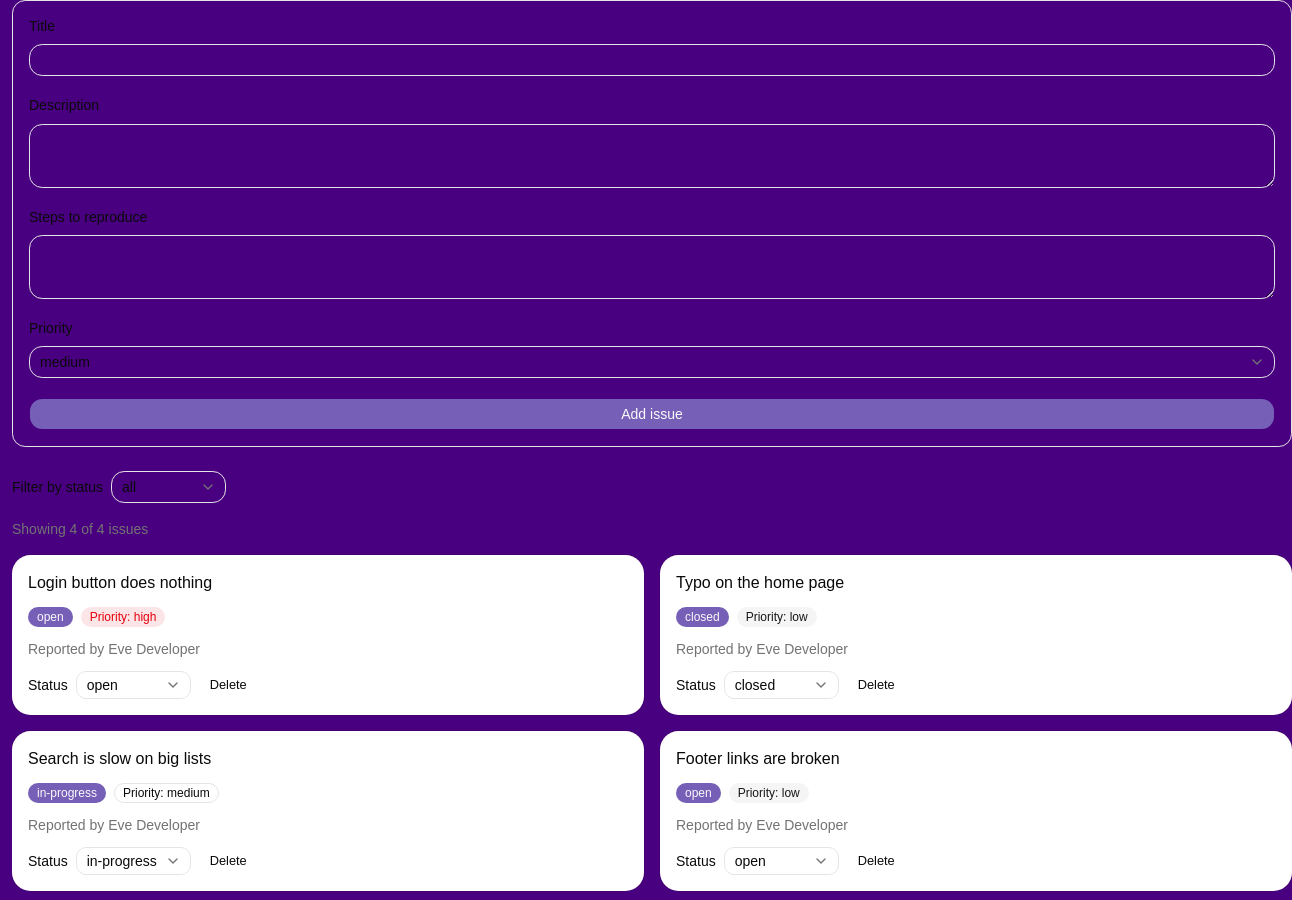
Test: IssueListPage (changing data) › adds an issue: sends it to the API and shows it without a page reload
This screenshot has width=1292, height=900.
Expected: the text "Showing 4 of 4 issues" is shown, x1=12 y1=521 x2=148 y2=537
Step 1. Type "Dark mode flickers" into the field labelled "Title" → (652, 60), box x1=29 y1=44 x2=1275 y2=76
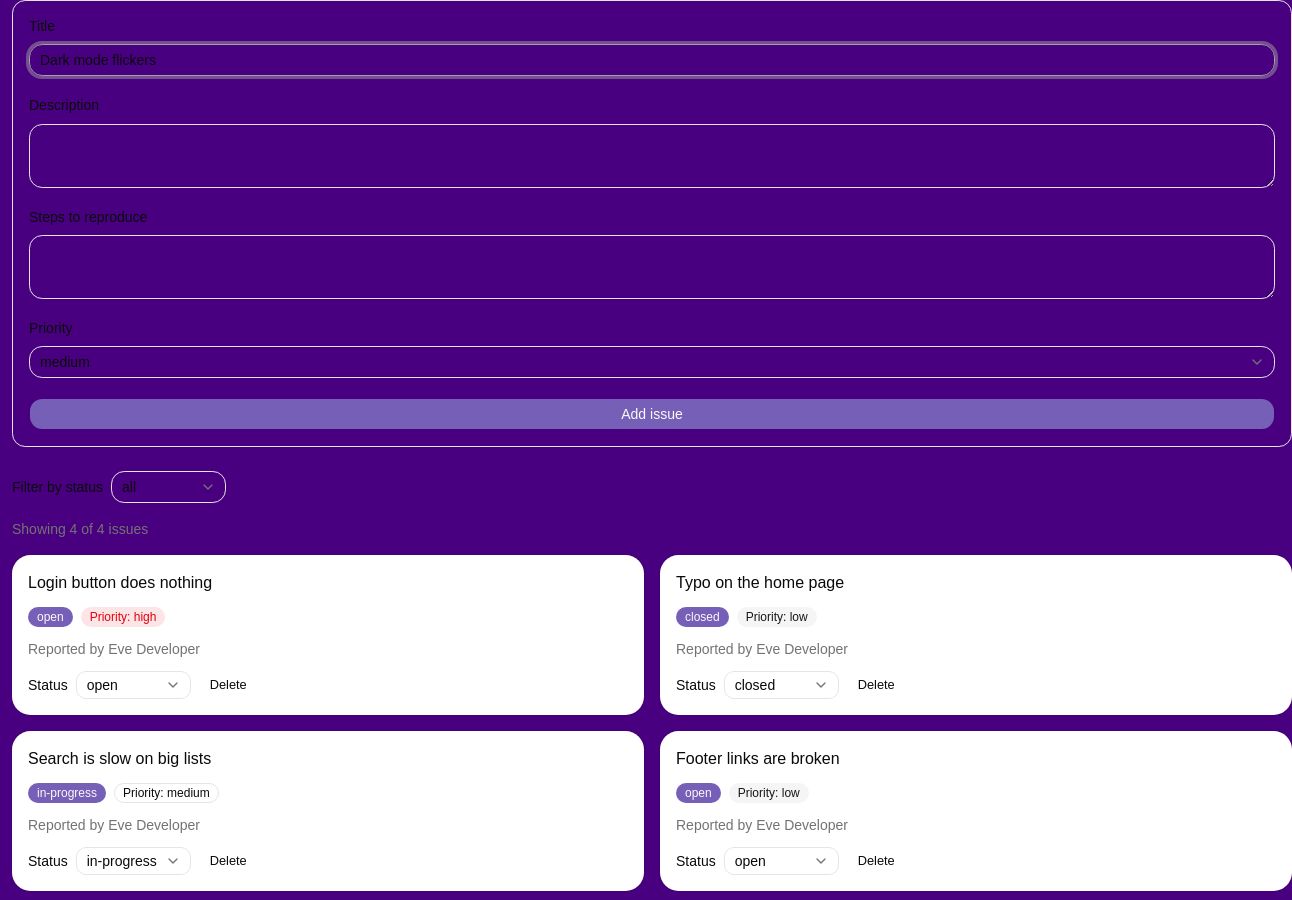
Step 2. Type "A description" into the text box labelled "Description" → (652, 156), box x1=29 y1=124 x2=1275 y2=188
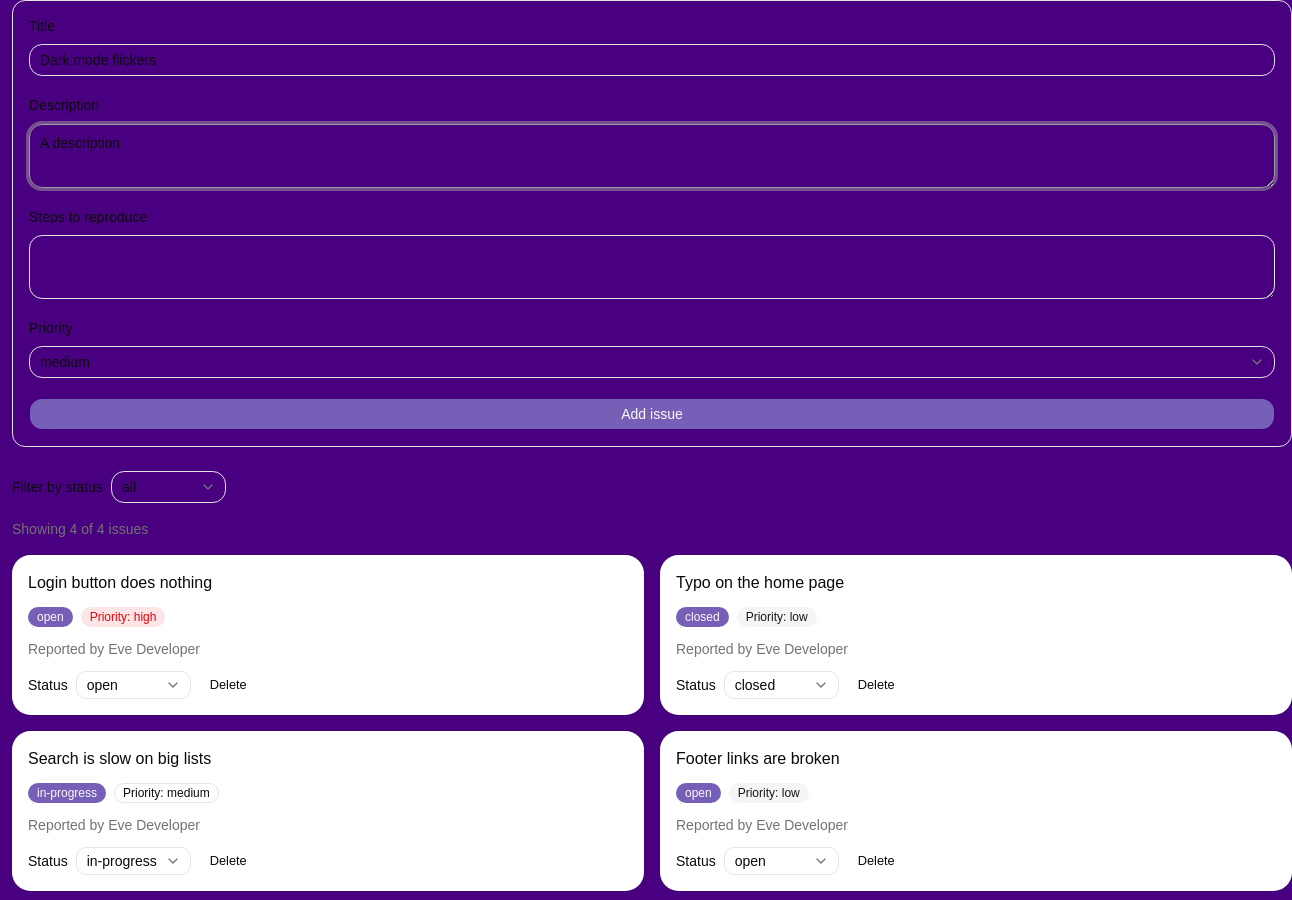
Step 3. Type "Some steps" into the text box labelled "Steps to reproduce" → (652, 267), box x1=29 y1=235 x2=1275 y2=299
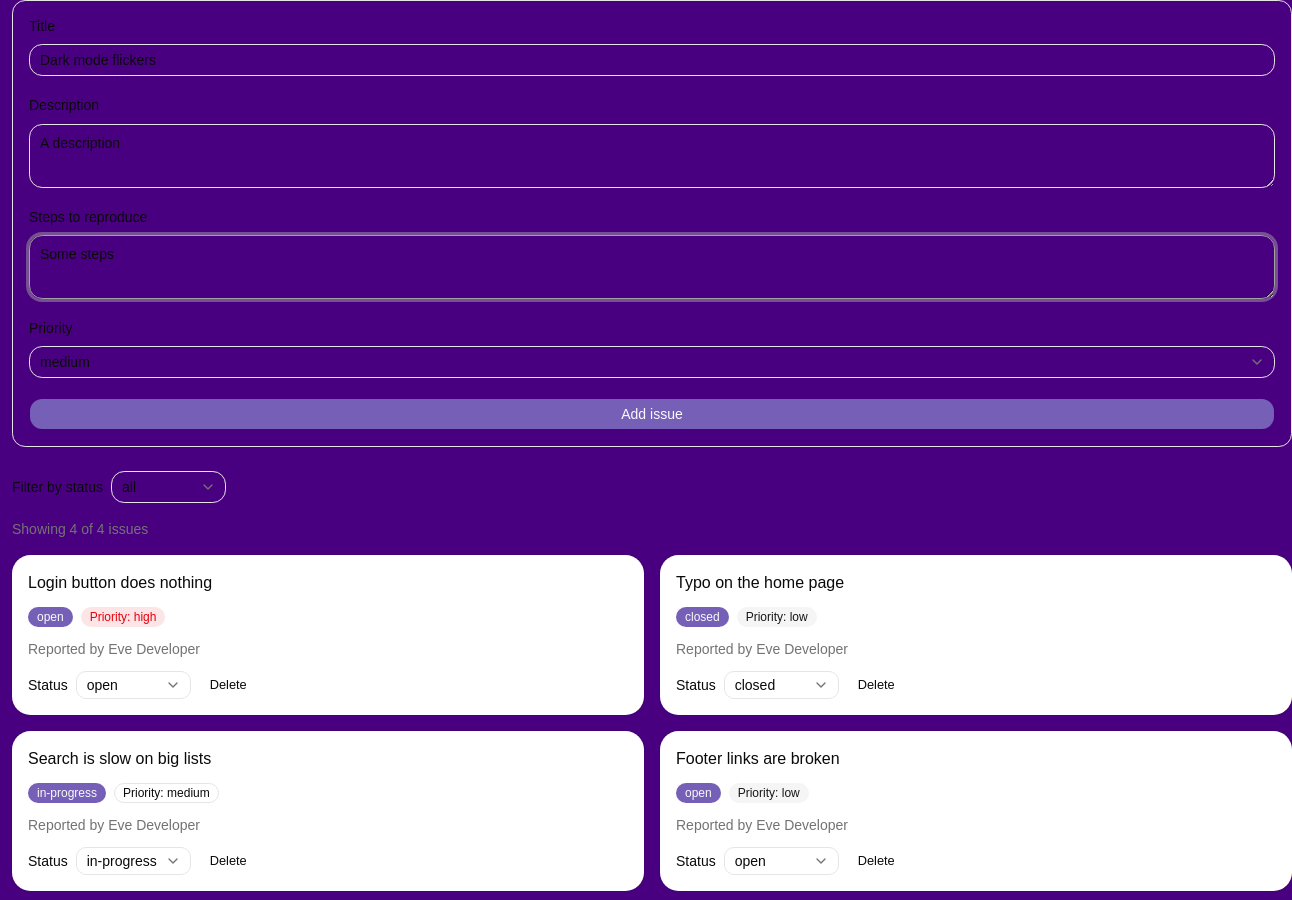
Step 4. Click the button "Add issue" → (652, 414), box x1=29 y1=398 x2=1275 y2=430
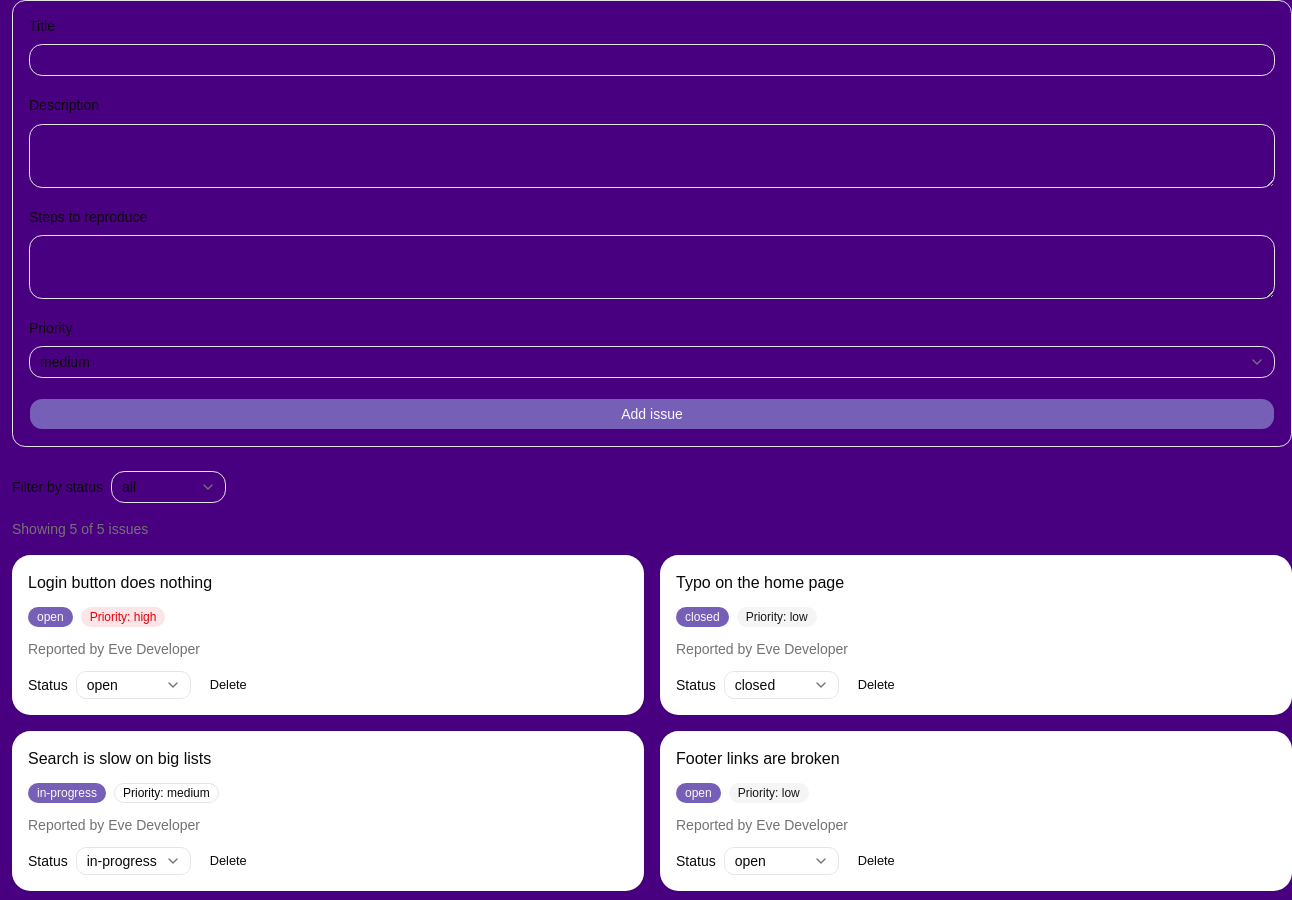
Expected: the text "Showing 5 of 5 issues" is shown, x1=12 y1=521 x2=148 y2=537
